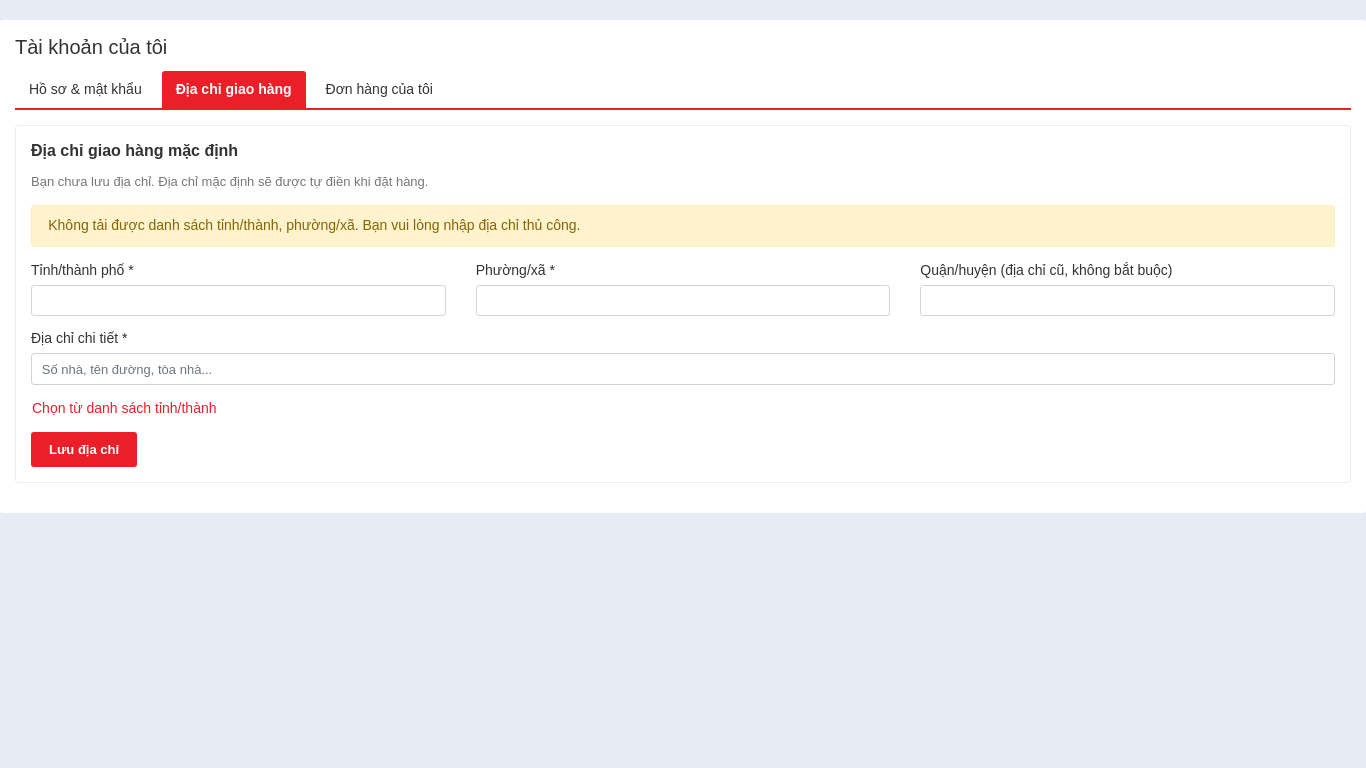
địa chỉ mặc định: kiểm tra ô bắt buộc trước khi gửi, lưu thành công khi nhập tay
Expected: the text "nhập địa chỉ thủ công" is shown, [48,217,580,233]
Click the button "Lưu địa chỉ": (84, 449) [31,432,137,467]
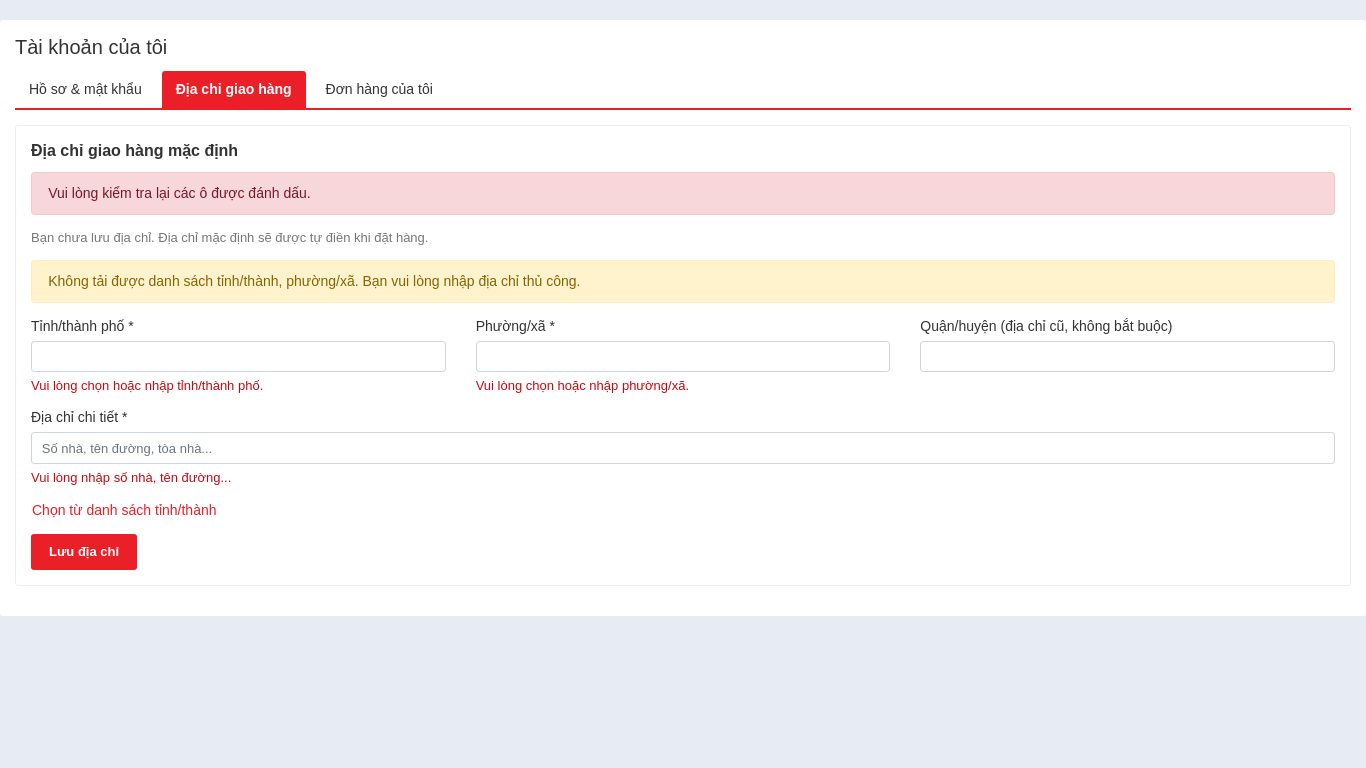
Result: the text "Vui lòng kiểm tra lại các ô được đánh dấu." is shown at [31,172,1335,215]
In the field labelled "Tỉnh/thành phố *": (238, 356) [31,341,446,372], type "Hà Nội"
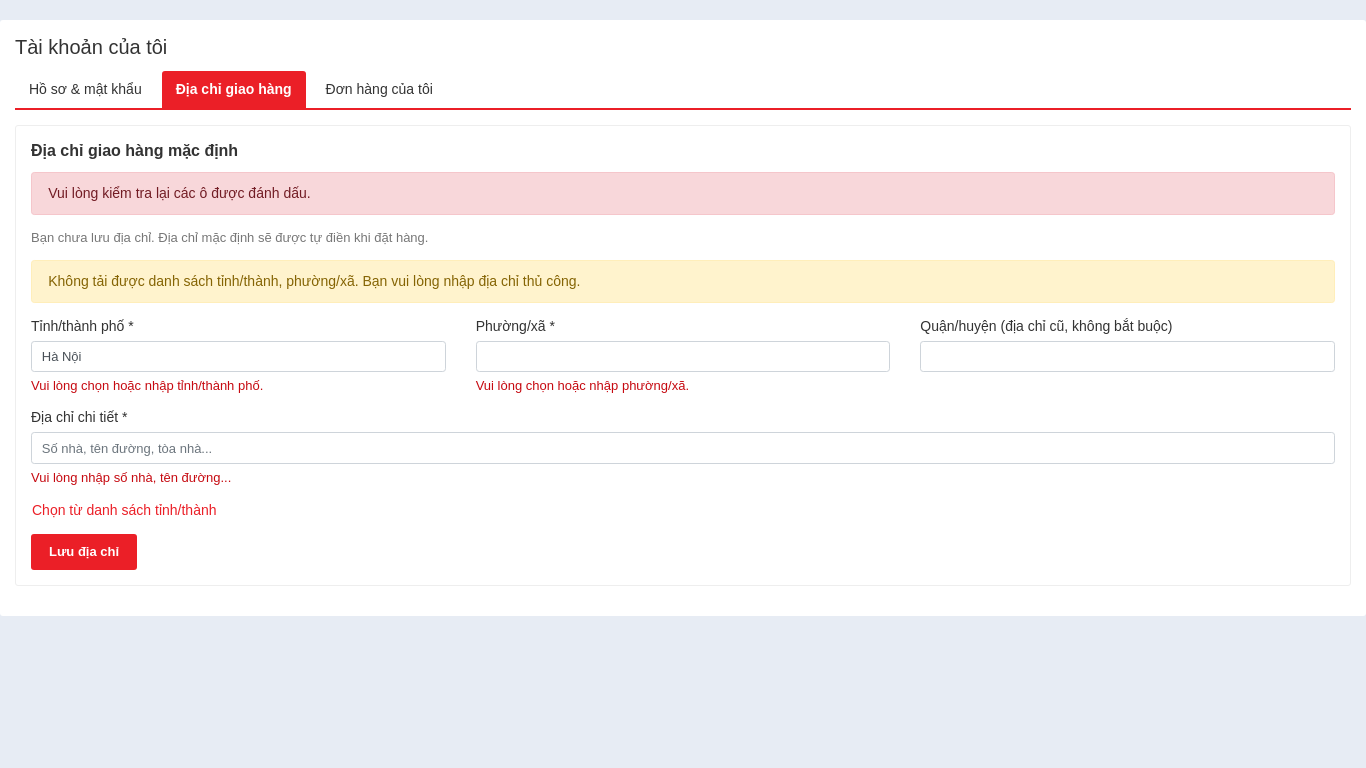
In the field labelled "Phường/xã *": (683, 356) [476,341,890,372], type "Phường Bách Khoa"
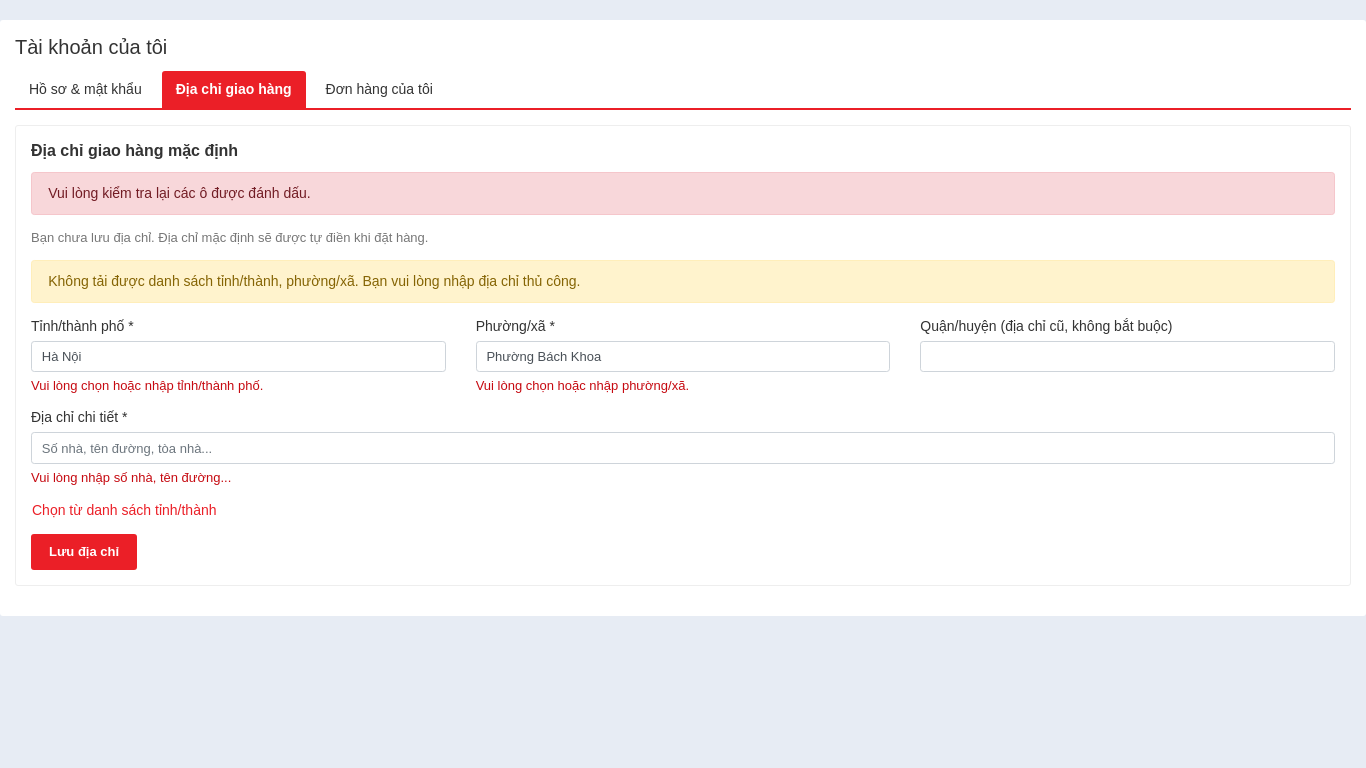
In the field labelled "Địa chỉ chi tiết *": (683, 448) [31,432,1335,464], type "Số 1"
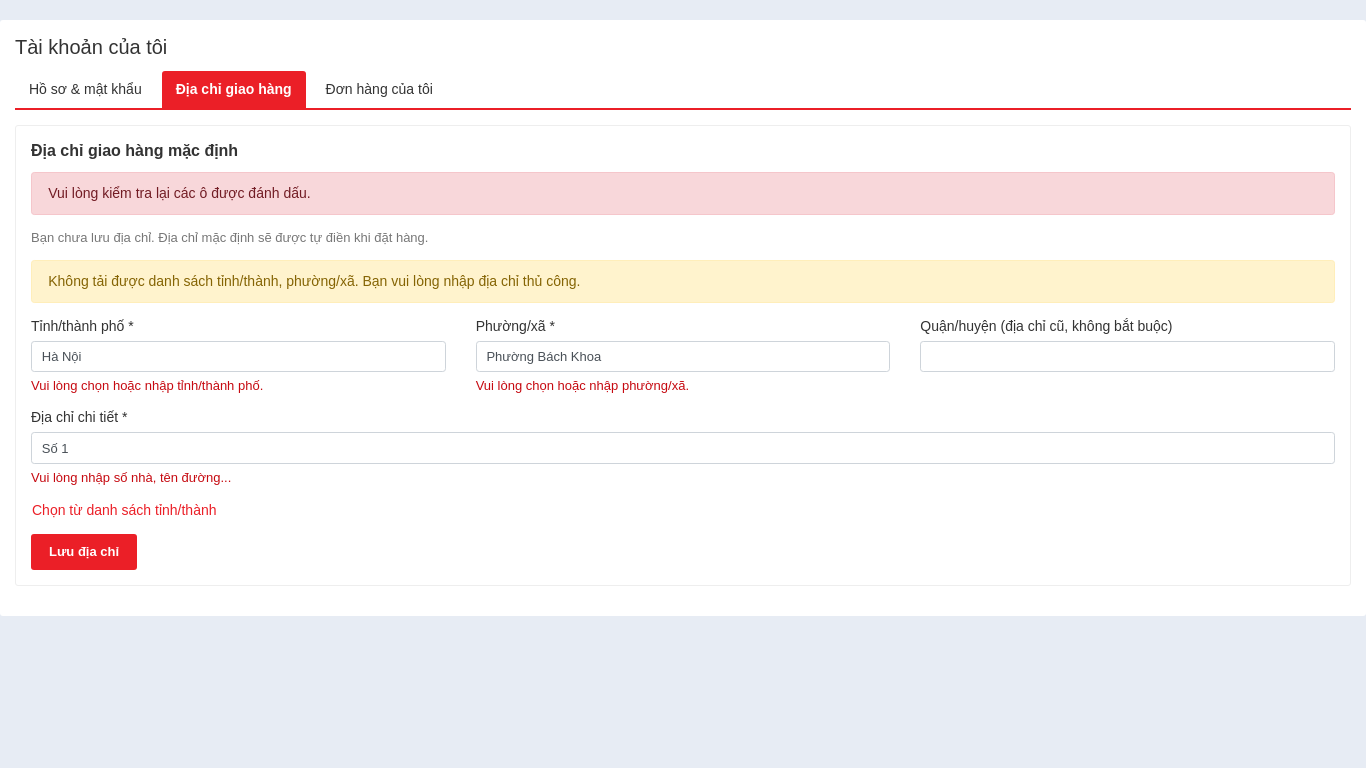
Click the button "Lưu địa chỉ": (84, 552) [31,534,137,570]
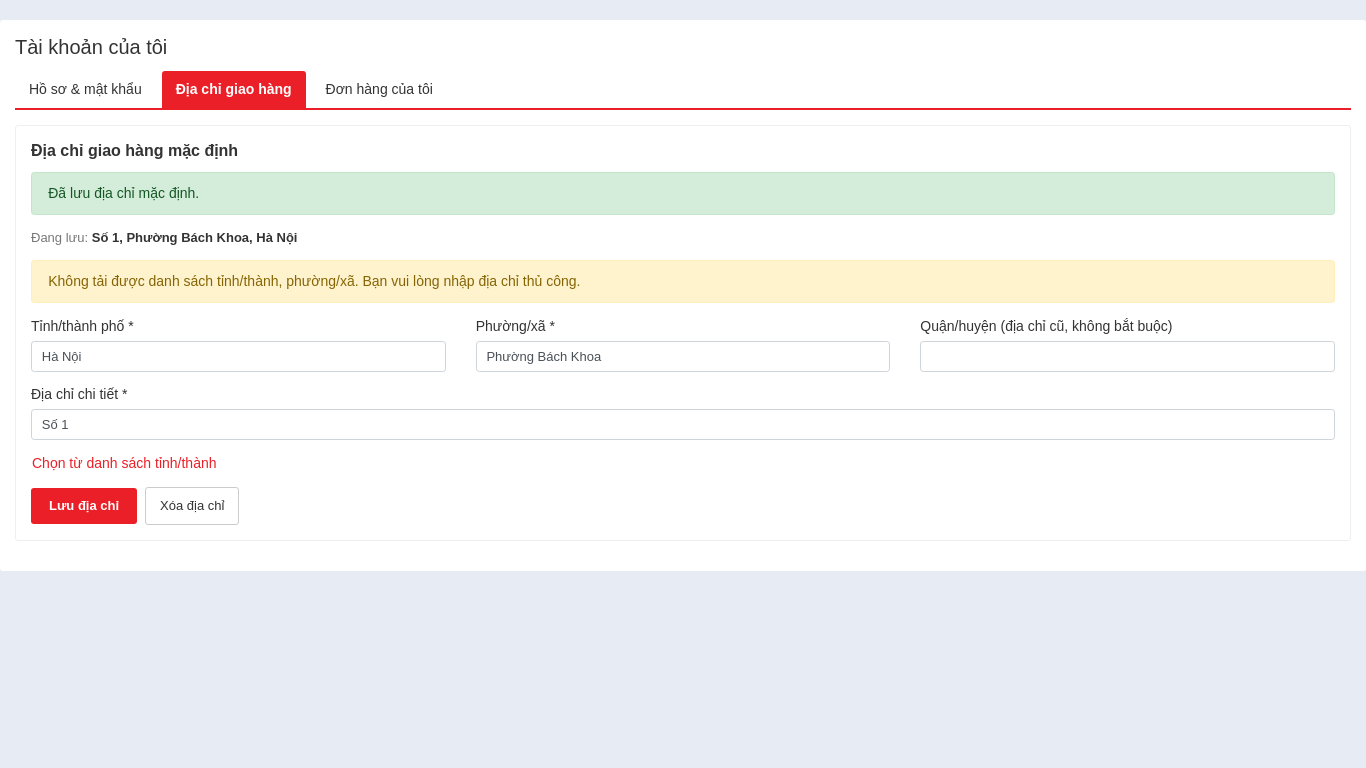
Result: the text "Đã lưu địa chỉ mặc định." is shown at [31,172,1335,215]
